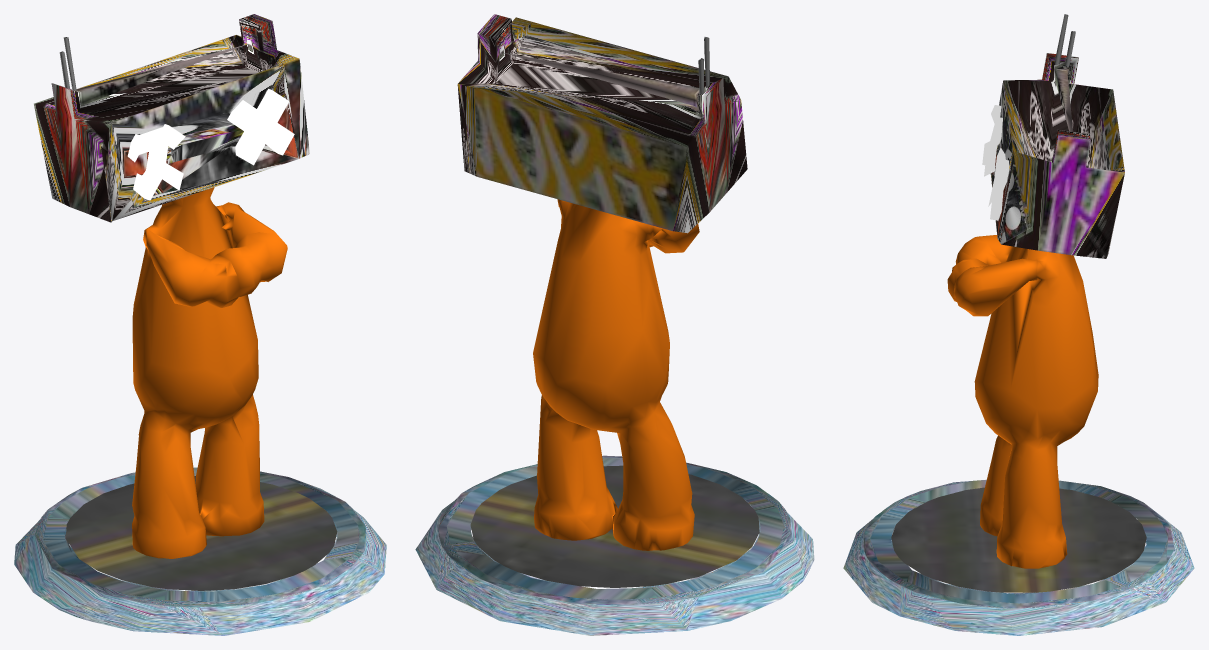
3 views of the same model, side by side, from view 1: azimuth 30°, elevation 25°; view 2: azimuth 150°, elevation 25°; view 3: azimuth 270°, elevation 25° (orthographic). The views are drawn at different scales.
Bounding box in the file's own units: 1.45 × 2.25 × 1.44.
Materials: 6 (3 with a texture image).
